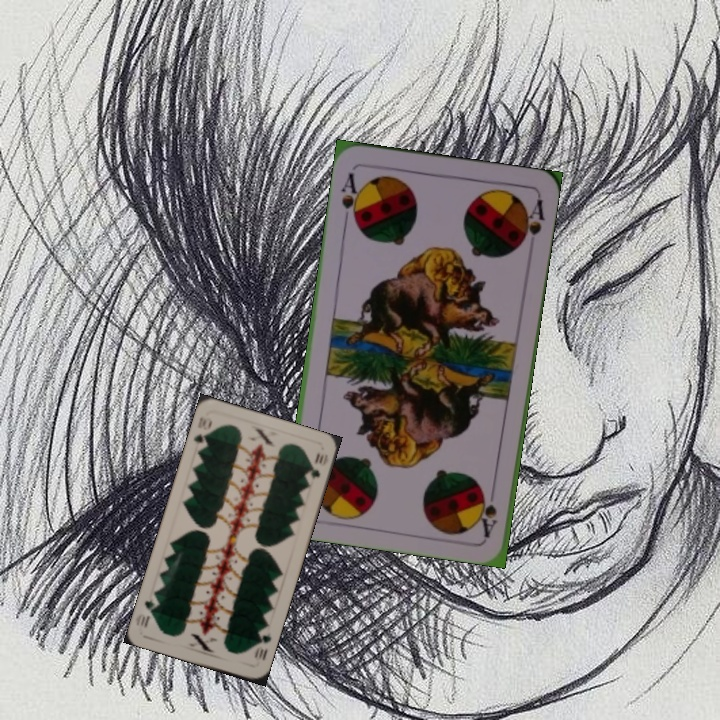G10: (189, 413, 215, 452), (250, 625, 274, 663)
SA: (337, 169, 364, 227), (476, 487, 500, 539)
